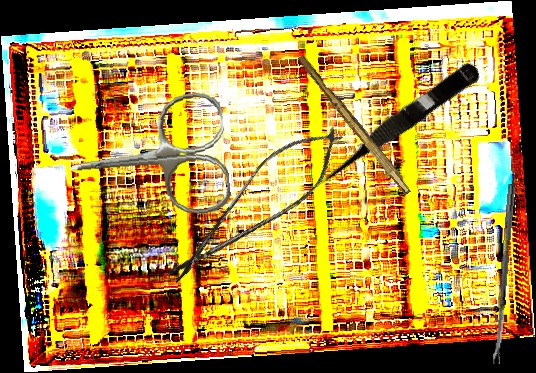Iris Scissors: (63, 90, 233, 227)
Micro Scissor: (154, 111, 357, 301), (308, 55, 484, 193)
Scalpel Handle: (294, 53, 416, 196)
Surgical Spoon: (491, 183, 516, 365)
